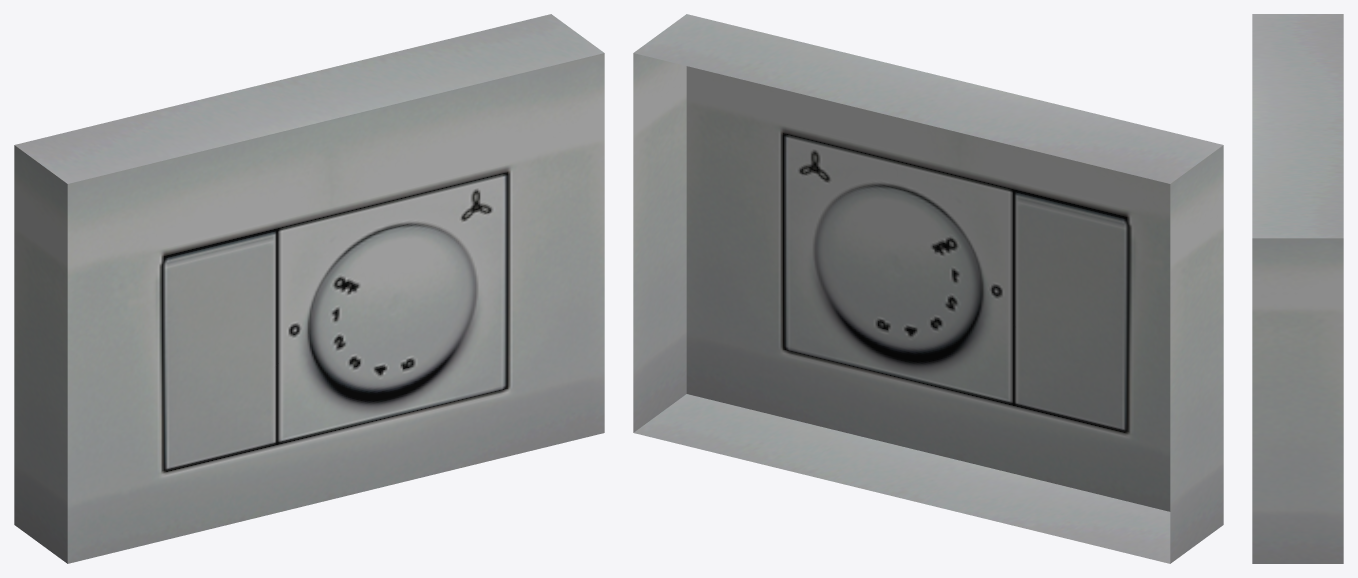
File: switch10.FBX
3 renders of one model, left to right at view 1: azimuth 30°, elevation 25°; view 2: azimuth 150°, elevation 25°; view 3: azimuth 270°, elevation 25°, orthographic. The views are drawn at different scales.
Visible parts, largest first — view 1: switch10; view 2: switch10; view 3: switch10.
Boxes of the visible parts, <box> form: switch10: <box>14,14,604,563</box>; switch10: <box>633,14,1223,563</box>; switch10: <box>1252,14,1343,563</box>.
Bounding box in the file's own units: 2.96 × 2 × 0.509.
